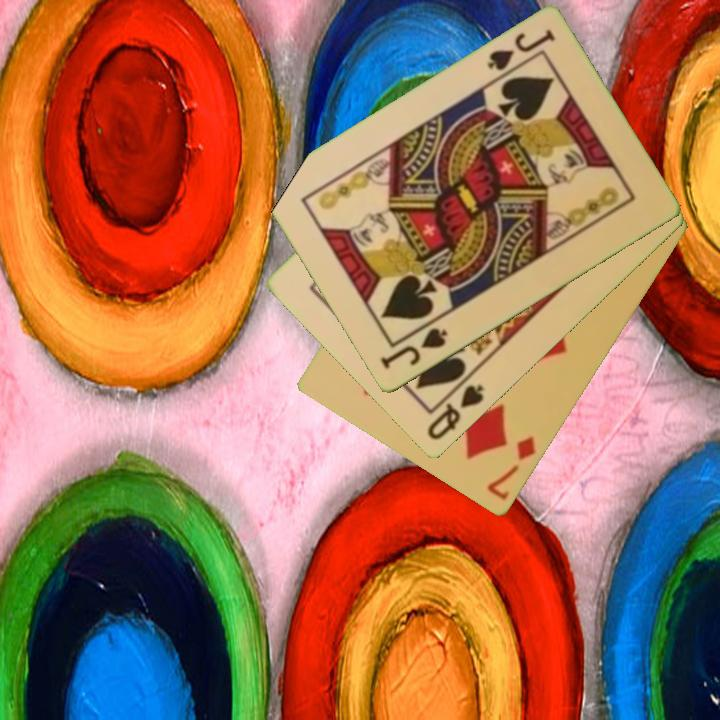7d: (483, 432, 539, 504)
Js: (483, 26, 558, 83), (377, 324, 451, 373)
Qs: (423, 381, 487, 444)
